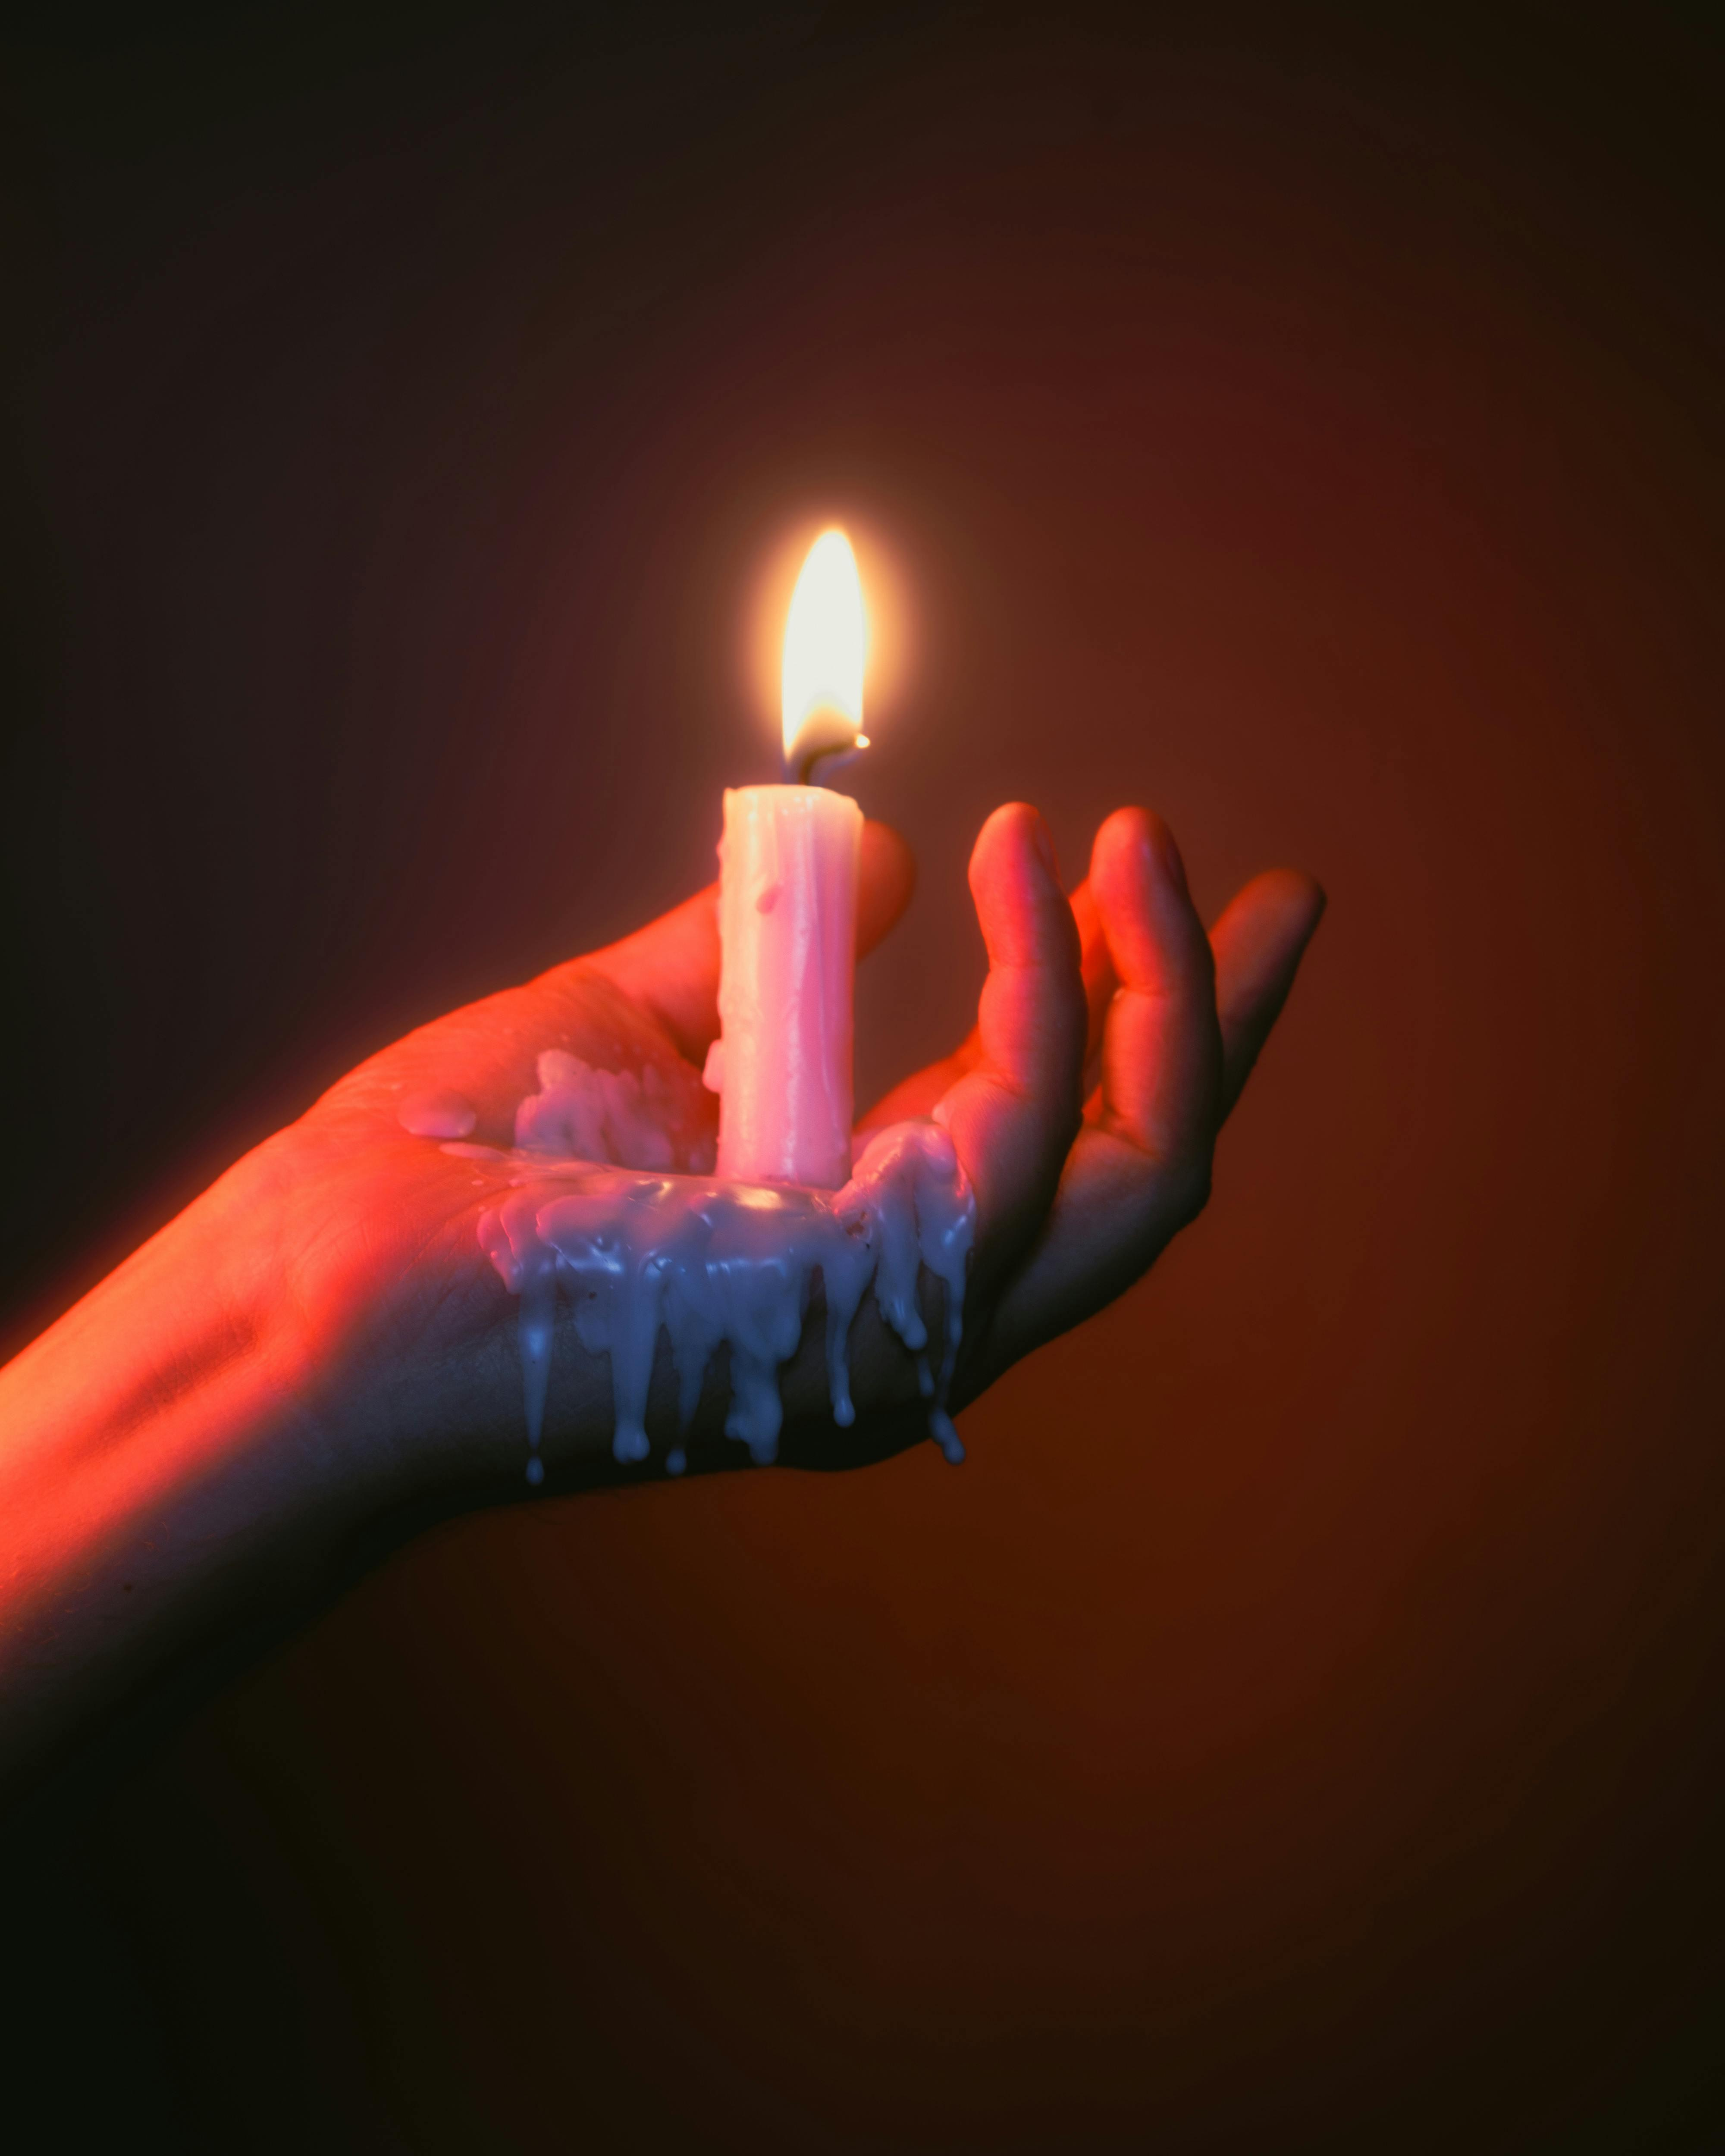Fire: (769, 493, 903, 797)
